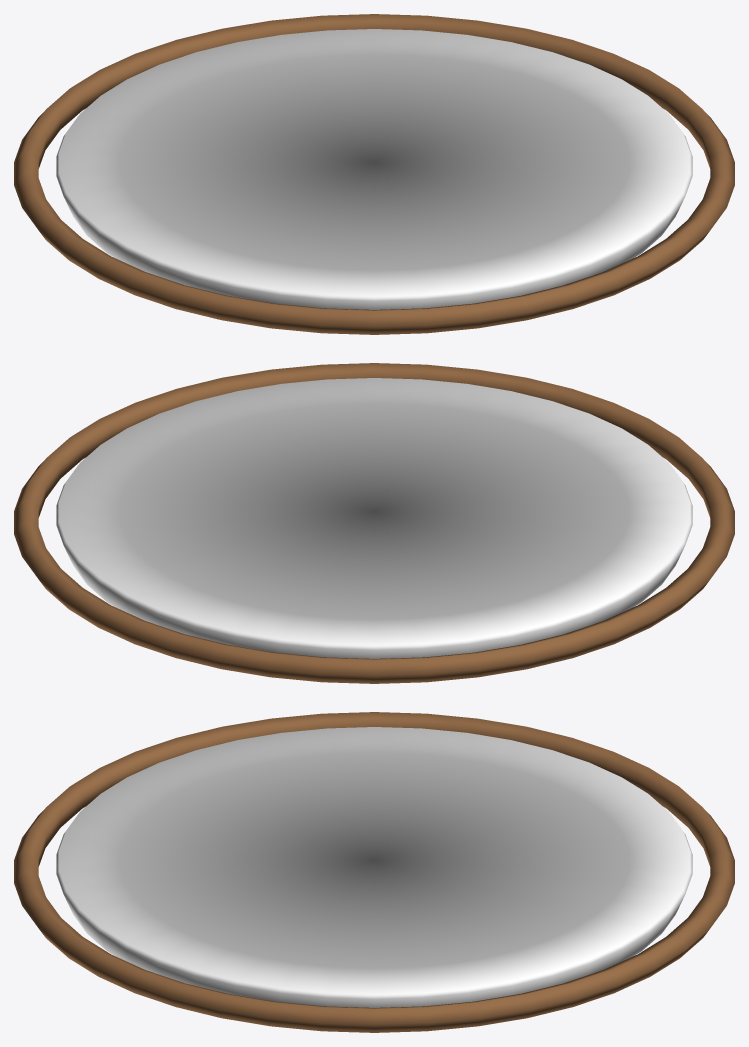
The model's file is Pedestal.glb.
3 views of the same model, one above another, from view 1: azimuth 30°, elevation 25°; view 2: azimuth 150°, elevation 25°; view 3: azimuth 270°, elevation 25° (orthographic).
Parts seen in each view (by area): view 1: Cube; view 2: Cube; view 3: Cube.
Part boxes in pixels (left/top/right/bottom): Cube: left=14, top=14, right=734, bottom=334; Cube: left=14, top=363, right=734, bottom=683; Cube: left=14, top=712, right=734, bottom=1032.
Bounding box in the file's own units: 1.14 × 0.2019 × 1.14.
Materials: 1 (1 with a texture image).
